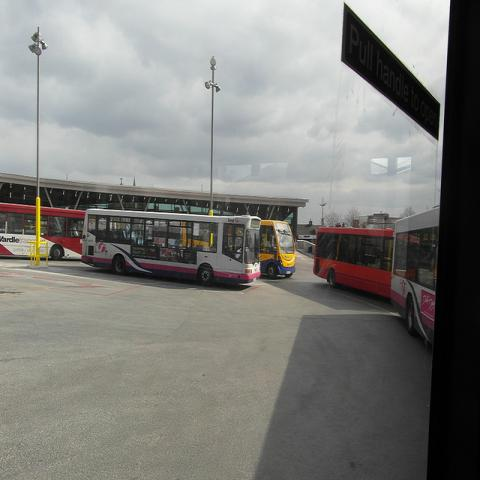bus: (82, 208, 262, 286), (389, 207, 440, 346), (313, 223, 395, 300), (0, 203, 87, 262), (260, 222, 298, 281)
